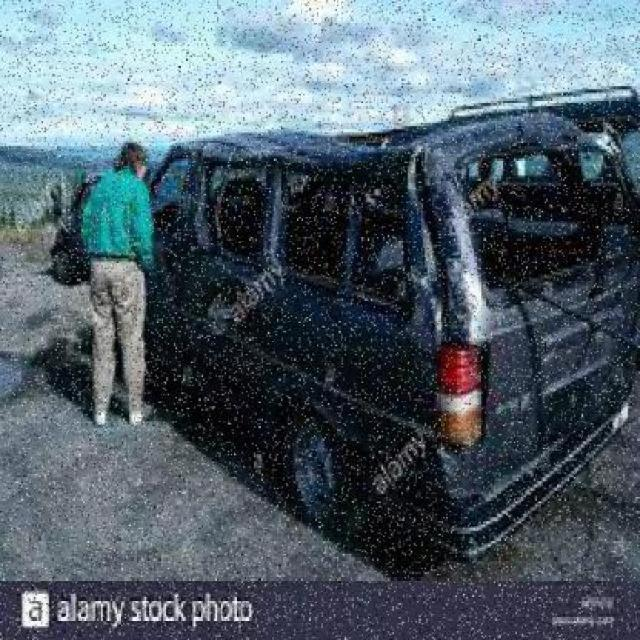pillar-dent: (400, 162, 484, 355), (259, 160, 286, 280)
